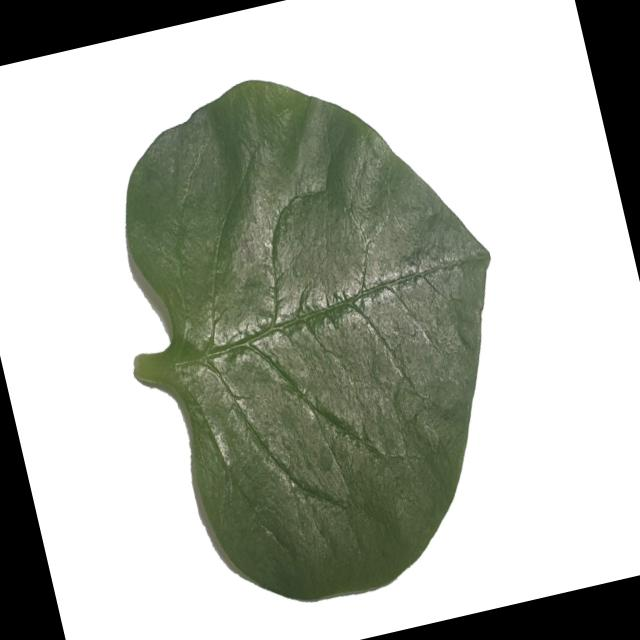Medicinal-Basale: (74, 34, 556, 627)
